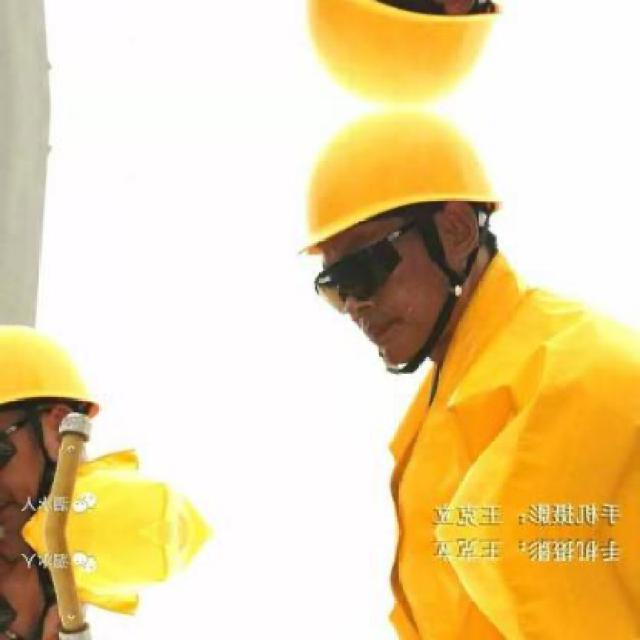helmet: (274, 108, 526, 378), (272, 0, 526, 106), (3, 318, 105, 517), (1, 546, 104, 639)
